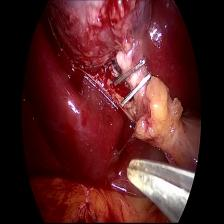Scissors: (125, 155, 195, 224)
